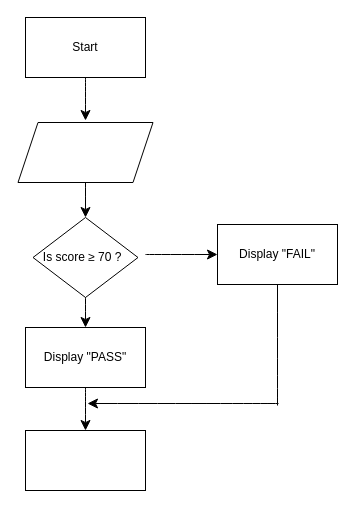
Some shapes in this 355 by 508 pixel diagram are drawn without their labels. The centre of each missing label's shape, as x and y in pixels:
End: the point at 85,460
Input student score: the point at 85,152
